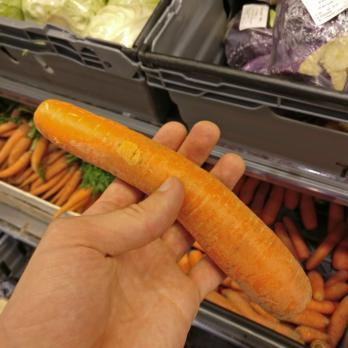Carrot: (32, 99, 312, 323), (312, 244, 348, 347), (0, 110, 37, 177)
